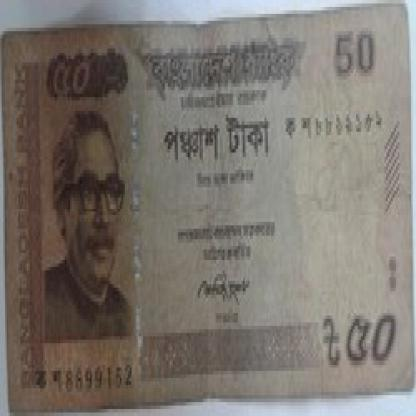Fifty taka: (316, 305, 404, 385), (43, 38, 103, 121)
